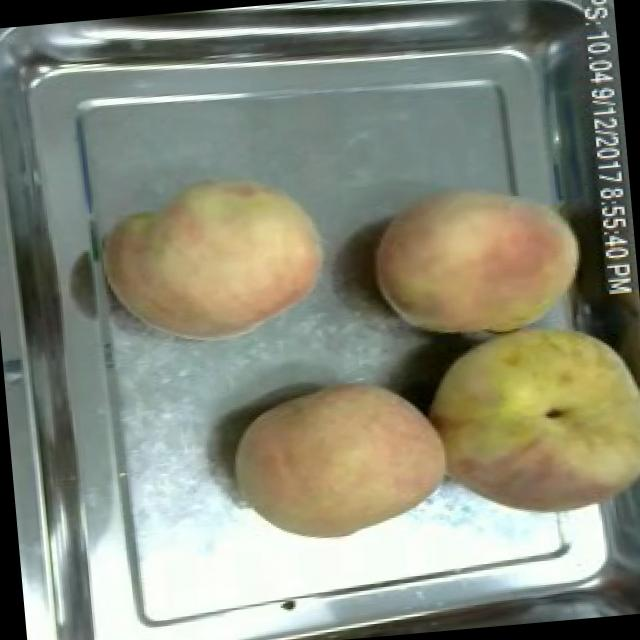Fruit: (413, 306, 640, 535), (91, 162, 336, 358), (216, 362, 458, 556), (361, 168, 595, 352)
